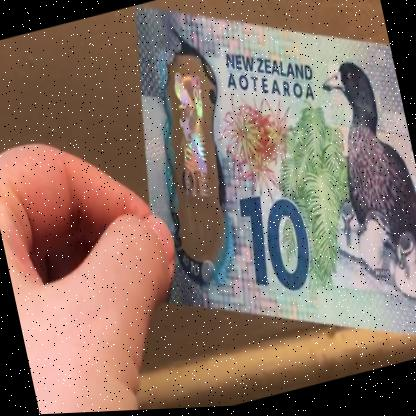10F: (152, 60, 236, 254)
